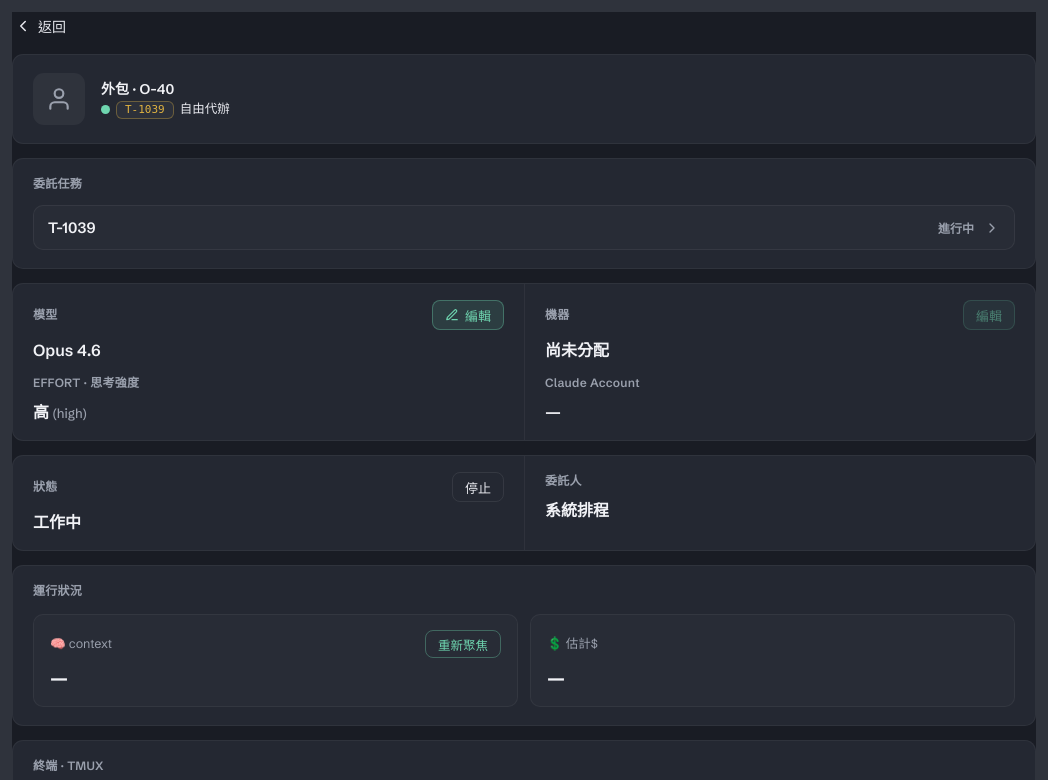
Test: WorkerDetailPanel — lifecycle ops (T-32e1/T-f190) › refocus round-trips: clicking online surfaces the sent acknowledgement
The width and height of the screenshot is (1048, 780).
Click the button with test id "worker-detail-refocus": (463, 644) [425,630,501,658]
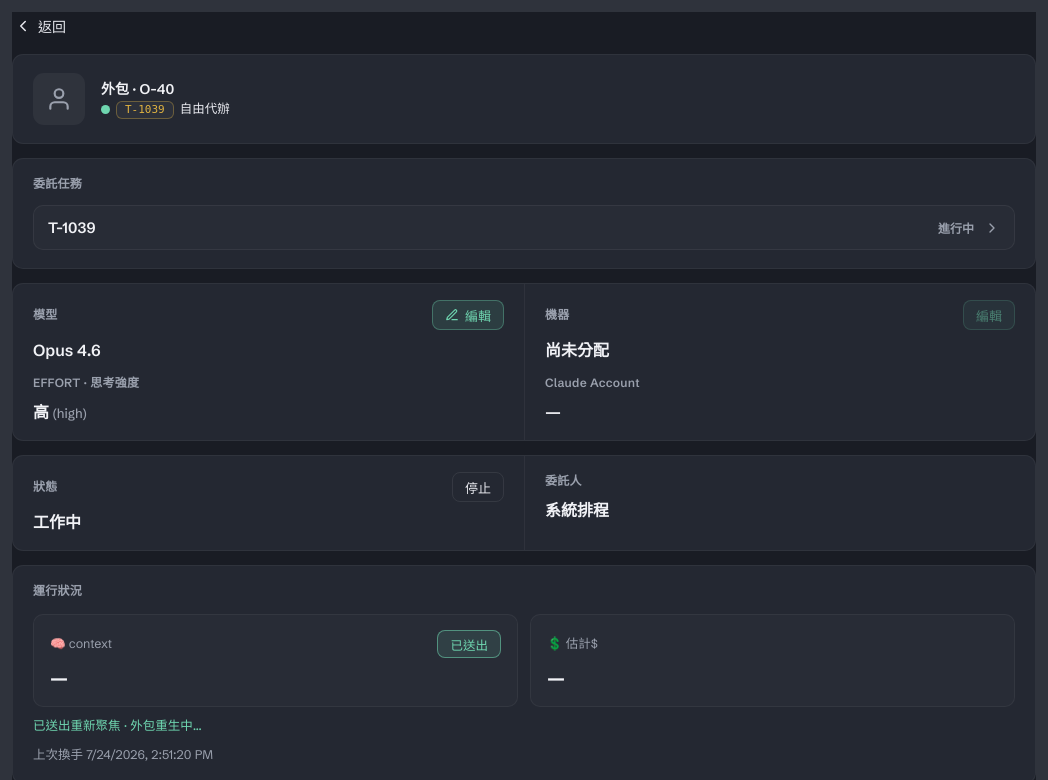
Now the text "已送出重新聚焦 · 外包重生中…" is shown, box [33,718,202,733]
